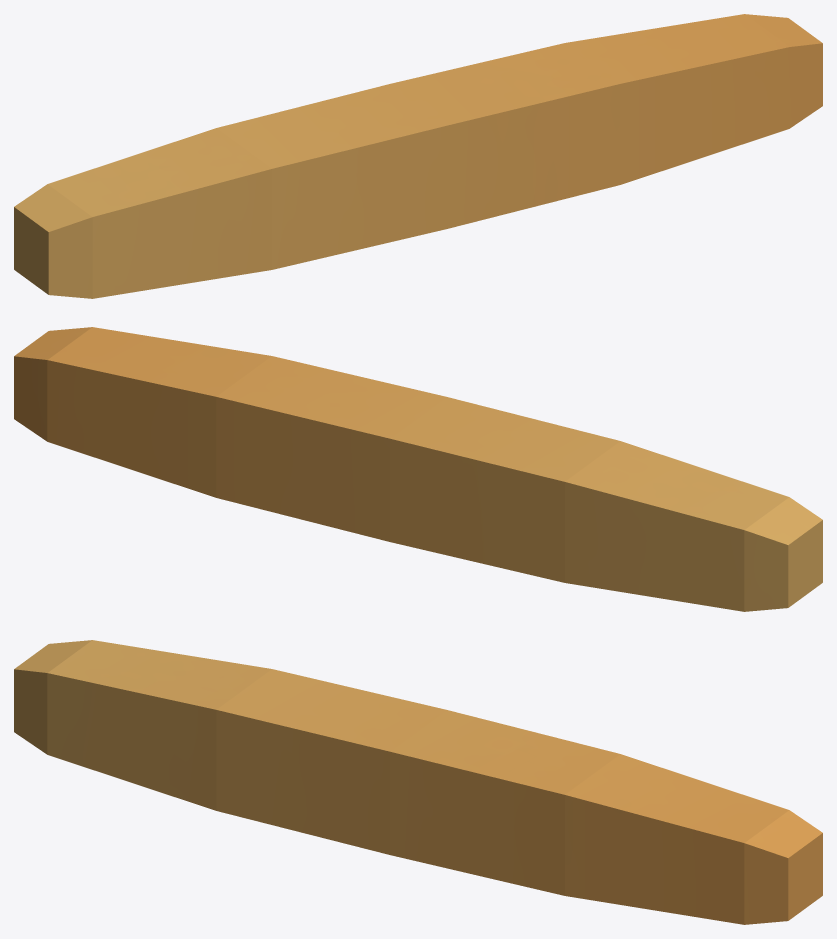
File: ITM_Chip.fbx
3 renders of one model, top to bottom at view 1: azimuth 30°, elevation 25°; view 2: azimuth 150°, elevation 25°; view 3: azimuth 330°, elevation 25°, orthographic.
Parts seen in each view (by area): view 1: Chip; view 2: Chip; view 3: Chip.
Boxes of the visible parts, x1,y1,x2,y2 form: Chip: [14, 14, 822, 298]; Chip: [14, 327, 822, 611]; Chip: [14, 640, 822, 924].
Size of the model in its own units: 10.83 by 1.38 by 1.38.
